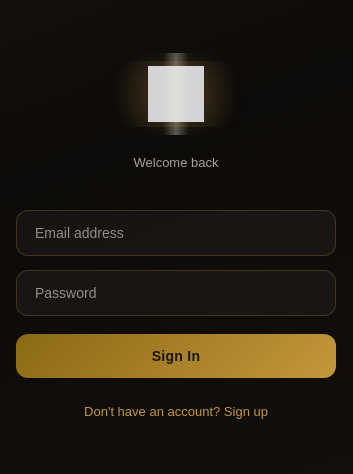
Scenario: AuthScreen › switches to register mode
Click the button "Don't have an account? Sign up" at (176, 411), box [84,404,268,418]
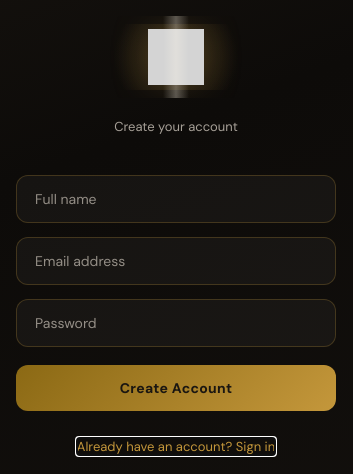
Check: the text "Create your account" is shown, box [114,118,238,135]
Check: the field with placeholder "Full name" is shown, box [16,175,336,223]
Check: the button "Create Account" is shown, box [16,365,336,411]
